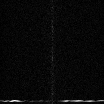wifi: (1, 98, 104, 101)
